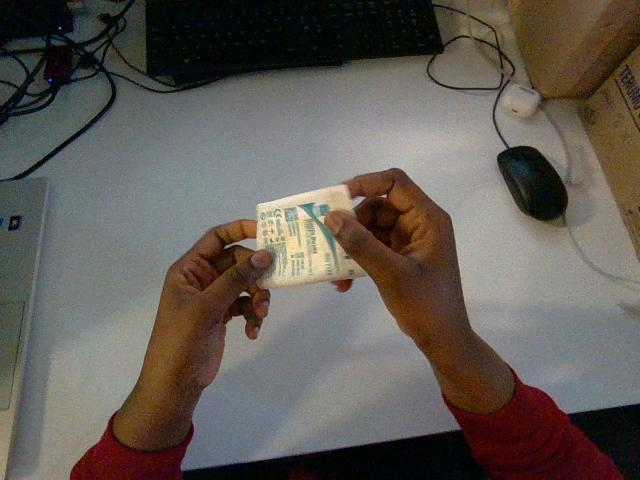gauze: (256, 185, 365, 288)
